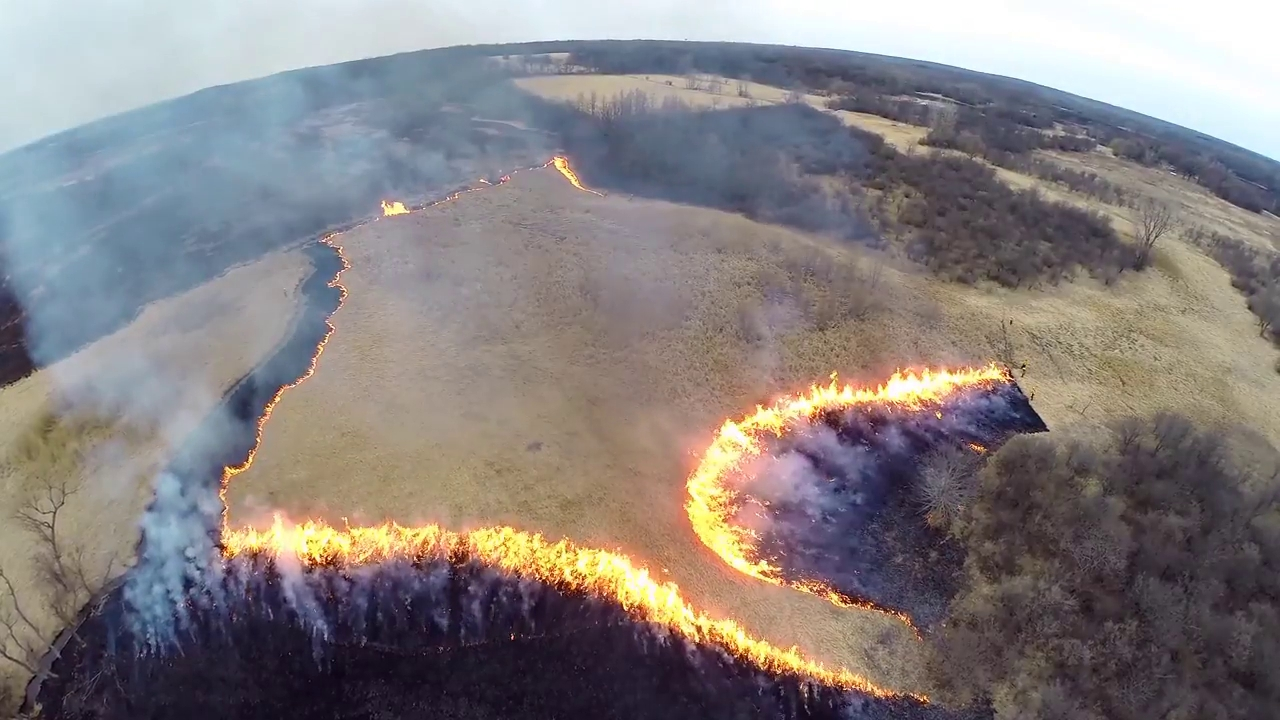forest_fire: (221, 501, 901, 697), (686, 363, 1015, 606), (223, 320, 333, 492), (540, 156, 592, 191), (321, 236, 349, 298), (381, 201, 408, 215), (432, 193, 461, 203), (462, 183, 487, 191), (904, 694, 926, 699), (503, 175, 509, 180), (398, 204, 401, 205)
